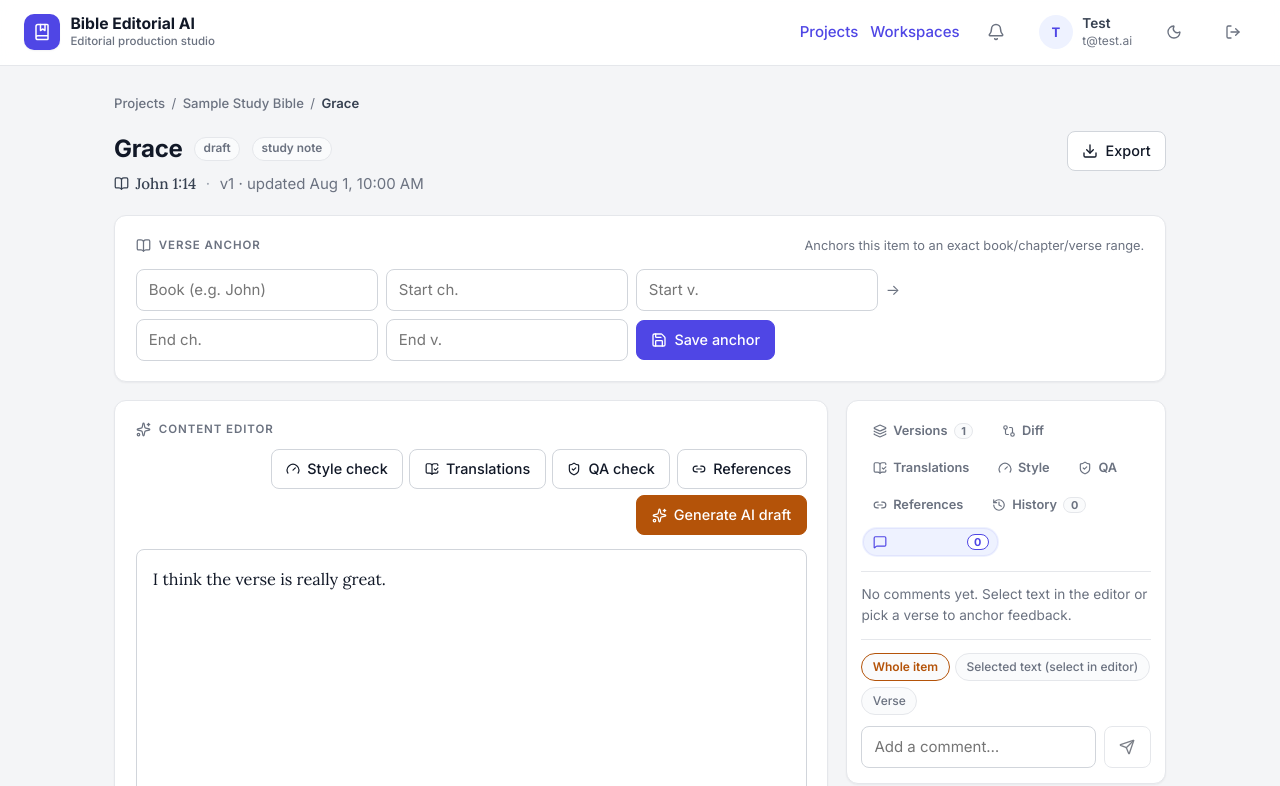
Test: Editor style-guide check › runs a check on the current body and shows score and issues
Expected: the heading "Grace" is shown, [114,131,183,167]
Click the button "Style check": (337, 469) [271,449,403,489]
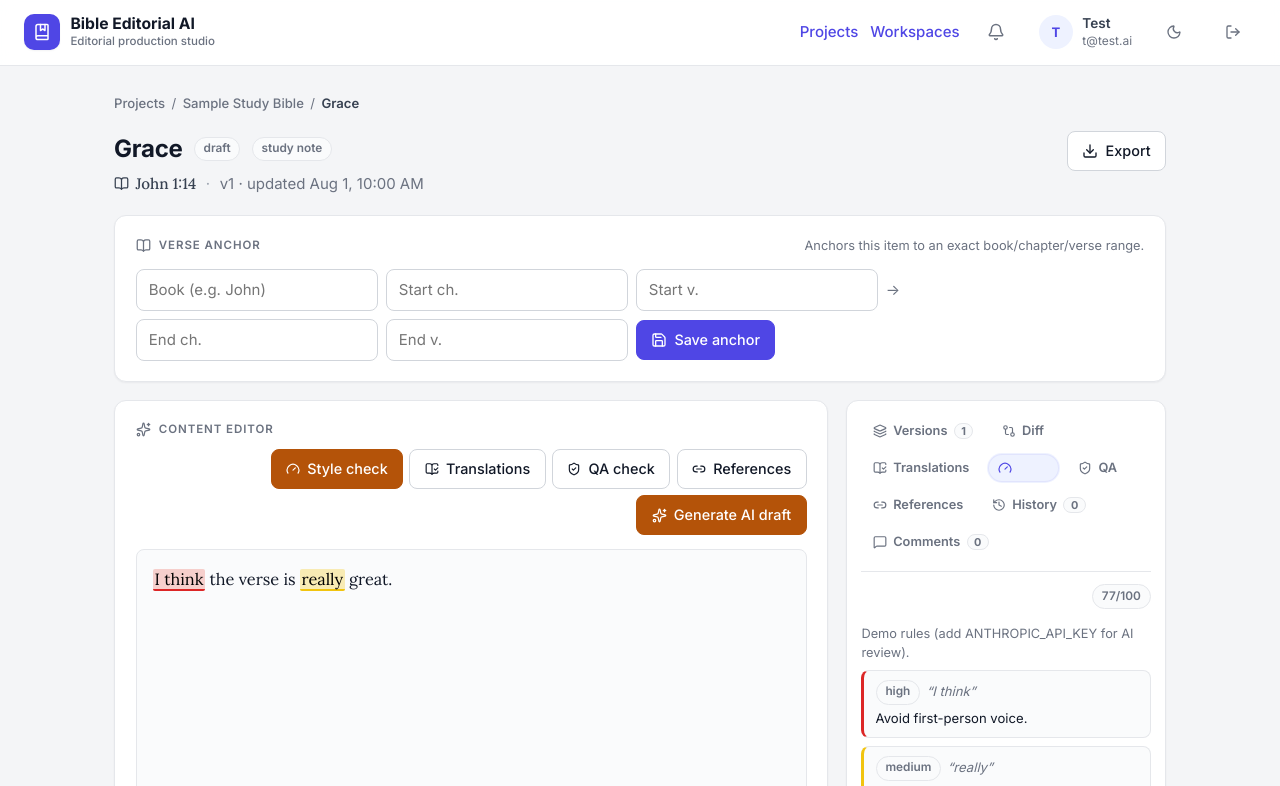
Expected: the text "77/100" is shown, [1102,588,1141,606]
Expected: the text "Avoid first-person voice." is shown, [876,710,1027,726]
Expected: the text "“I think”" is shown, [926,682,975,702]
